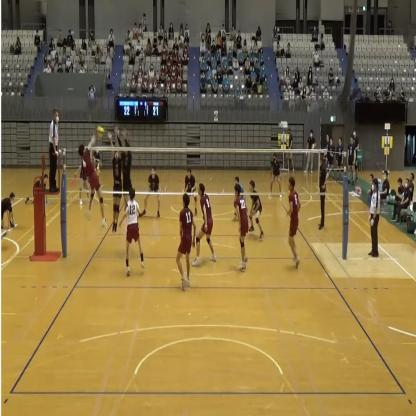spike: (79, 128, 108, 230)
